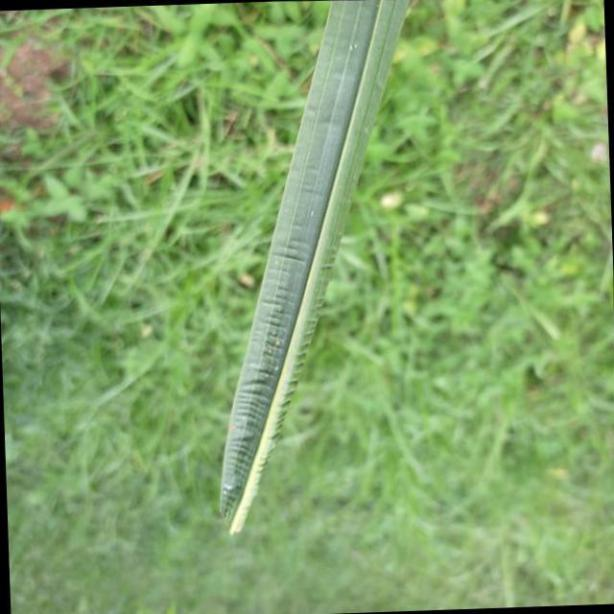Boron: (216, 0, 409, 542)
